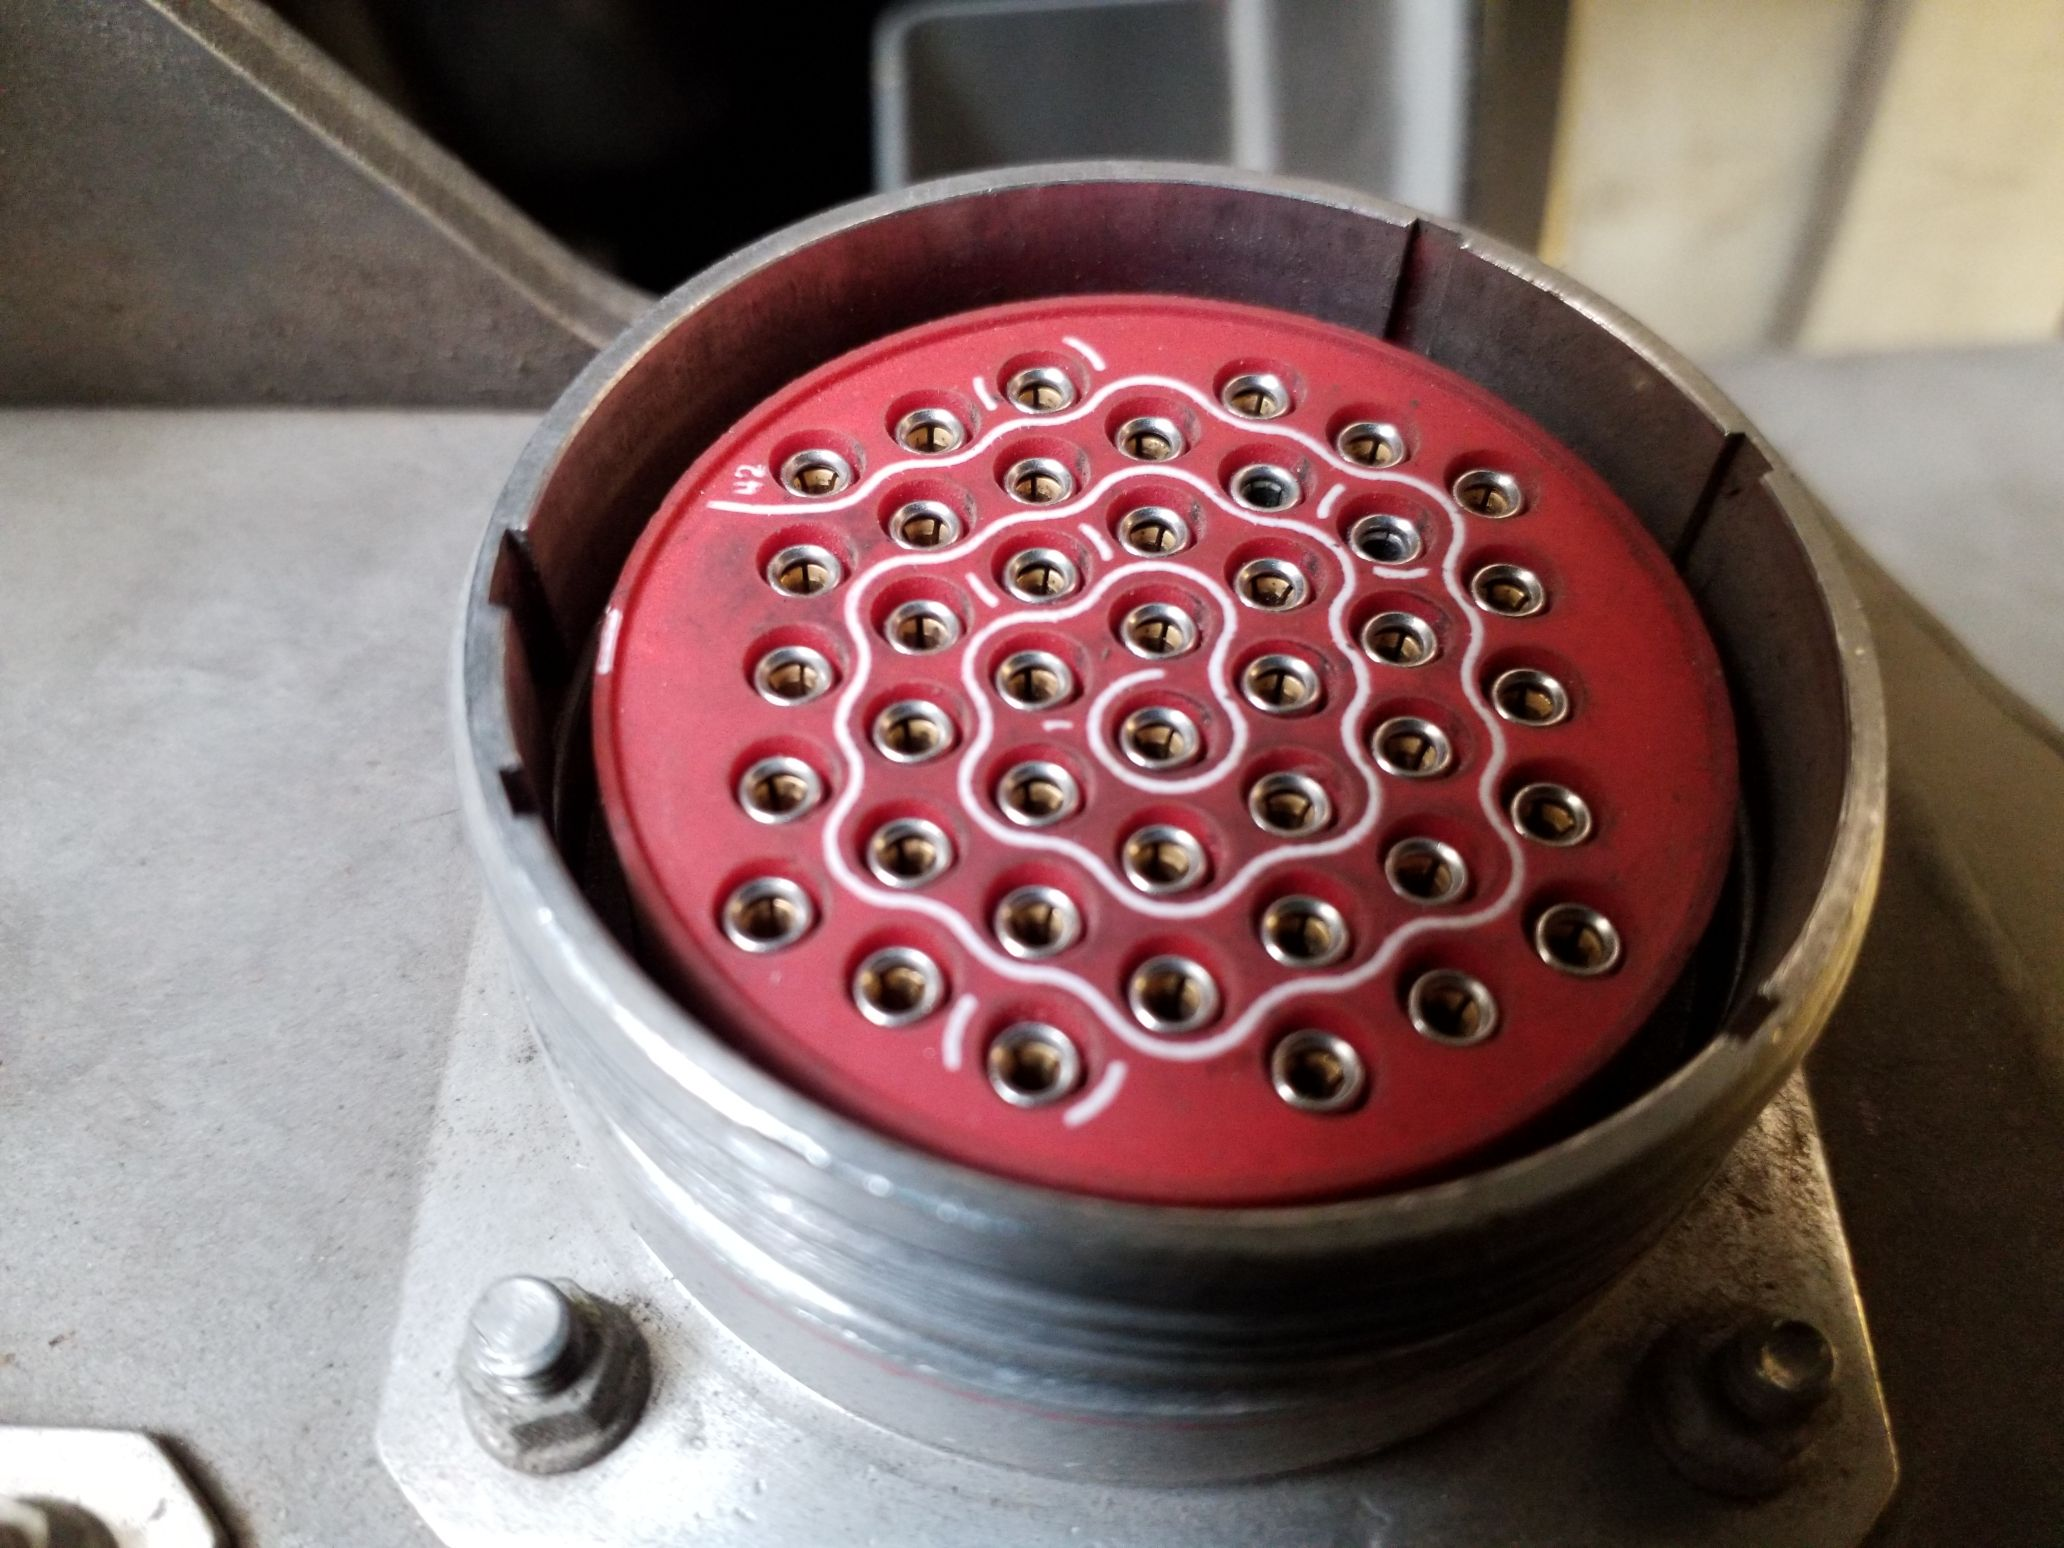inletround: (450, 130, 1921, 1314)
